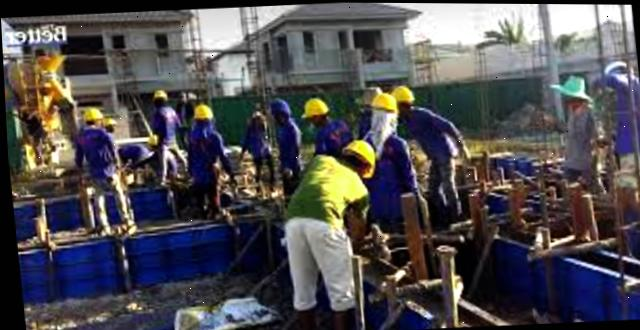helmet: (345, 134, 373, 175), (299, 85, 328, 117), (368, 88, 401, 110), (185, 103, 214, 122), (72, 107, 102, 125), (387, 80, 408, 102), (145, 86, 172, 102), (101, 112, 116, 126)
